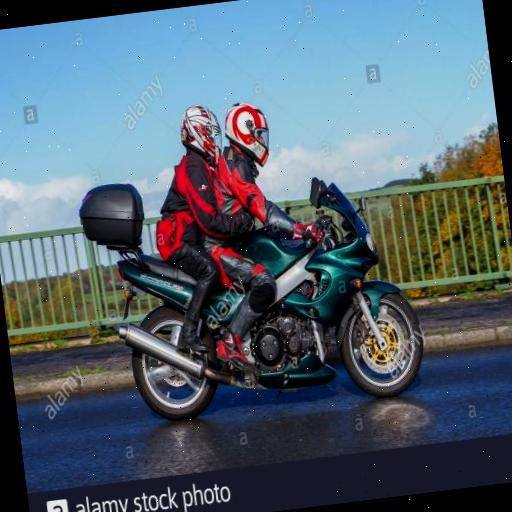helmet: (201, 61, 398, 440)
